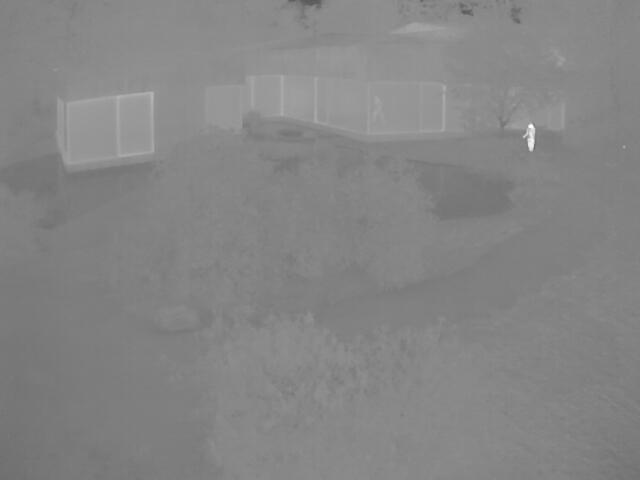person: (522, 122, 534, 150)
